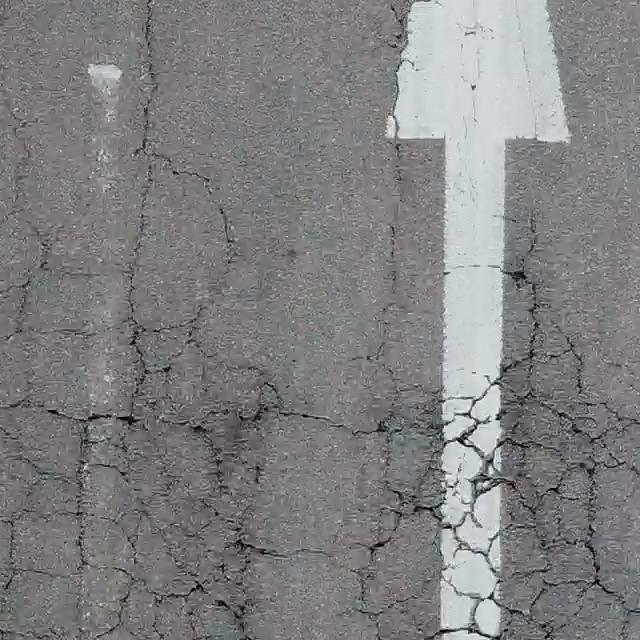GRIETA: (386, 0, 421, 222), (135, 0, 158, 156)
PIEL DE COCODRILO: (0, 75, 639, 639)
